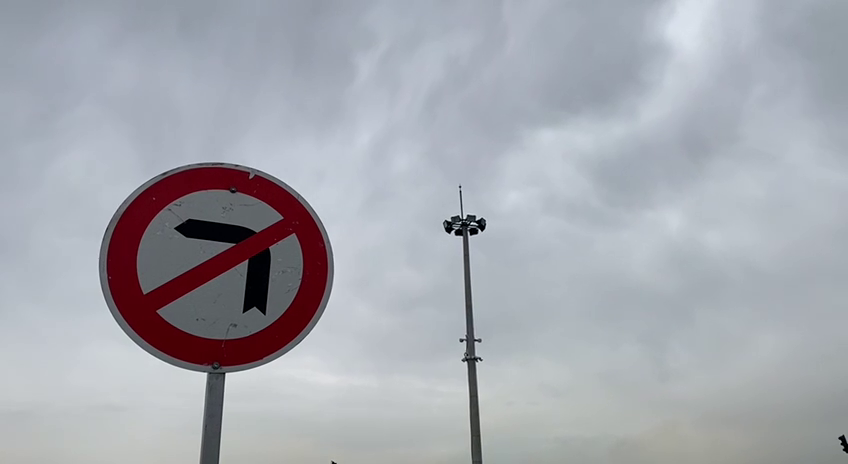noTurnLeft: (96, 154, 337, 377)
